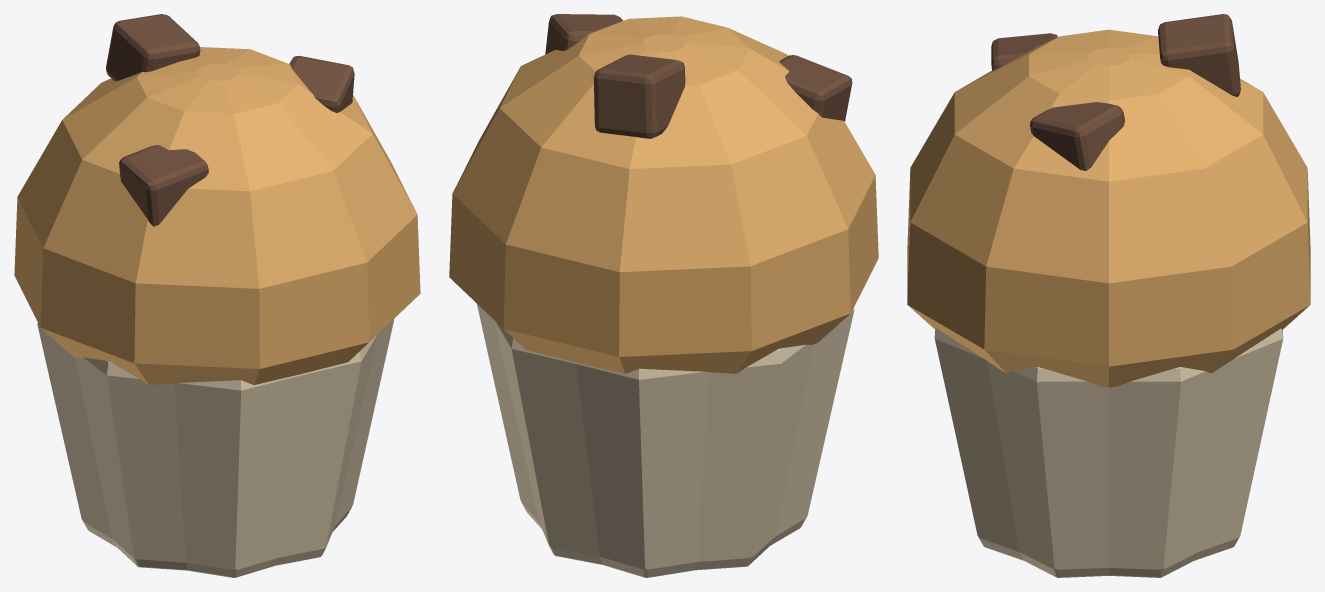
File: muffin.fbx
3 renders of one model, left to right at view 1: azimuth 30°, elevation 25°; view 2: azimuth 150°, elevation 25°; view 3: azimuth 270°, elevation 25°, orthographic. The views are drawn at different scales.
Visible parts, largest first — view 1: muffin; view 2: muffin; view 3: muffin.
Boxes of the visible parts, x1,y1,x2,y2 form: muffin: [14, 14, 420, 577]; muffin: [449, 14, 878, 577]; muffin: [907, 14, 1310, 577].
Bounding box in the file's own units: 13.6 × 17.35 × 12.93.
